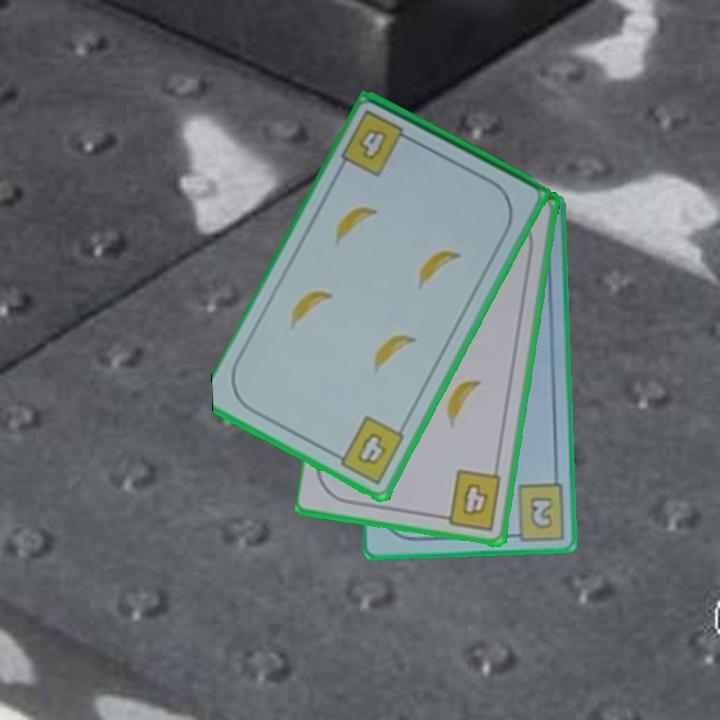2b: (503, 480, 568, 542)
4b: (329, 412, 408, 488), (338, 106, 419, 180), (435, 466, 505, 533)
